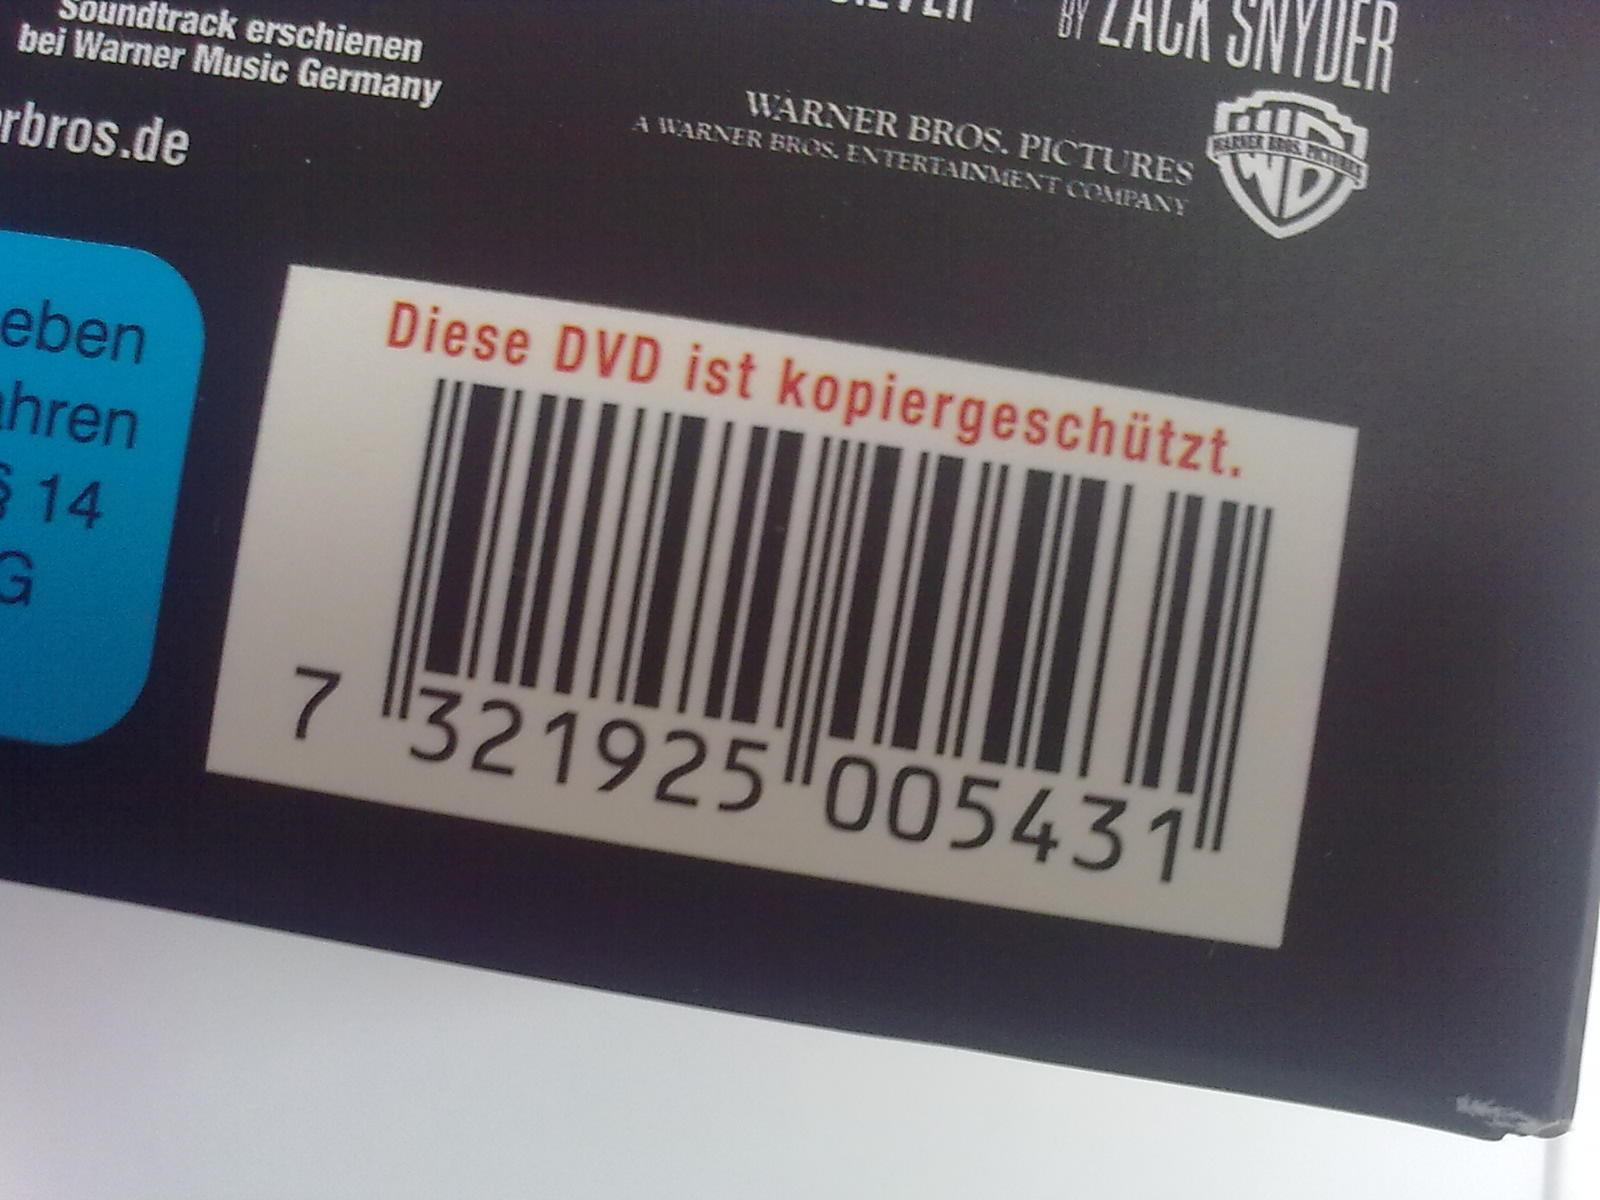Barcode: (249, 354, 1295, 906)
